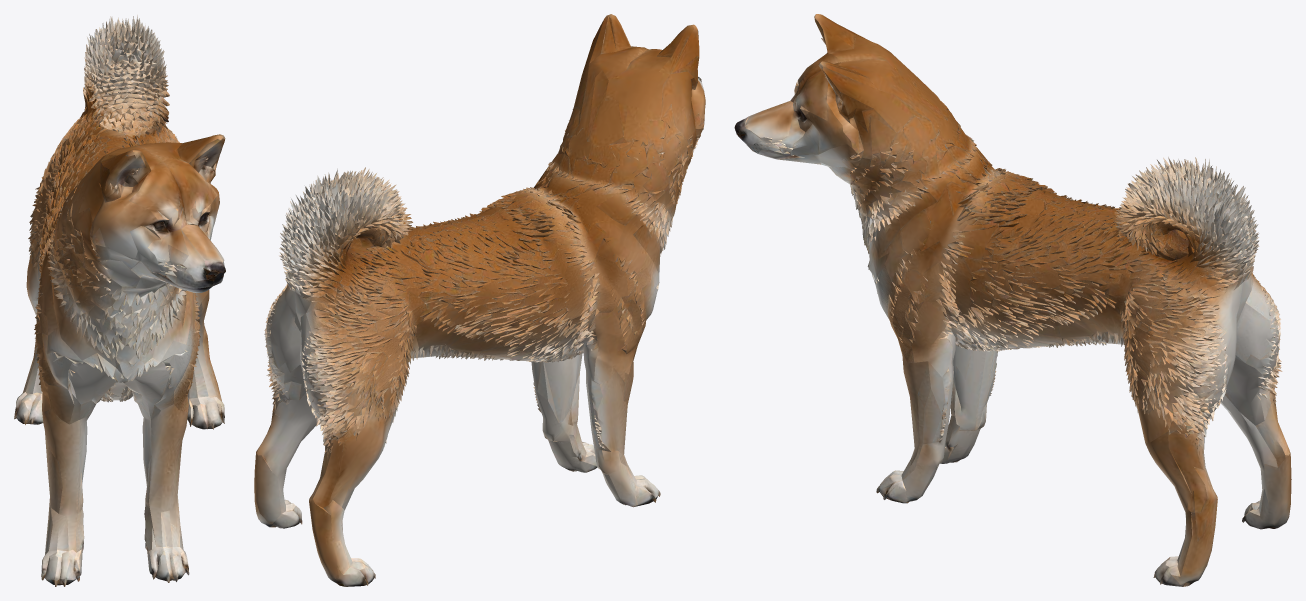
The model's file is shiba.glb.
The picture shows the model from 3 angles, left to right: view 1: azimuth 30°, elevation 25°; view 2: azimuth 150°, elevation 25°; view 3: azimuth 270°, elevation 25°; orthographic projection. The views are drawn at different scales.
Visible parts, largest first — view 1: Mesh_0; view 2: Mesh_0; view 3: Mesh_0.
Boxes of the visible parts, x1=… form: Mesh_0: x1=14, y1=15, x2=225, y2=586; Mesh_0: x1=254, y1=14, x2=705, y2=586; Mesh_0: x1=734, y1=14, x2=1291, y2=586.
Bounding box in the file's own units: 1.16 × 1.68 × 1.9.
Materials: 1 (1 with a texture image).
